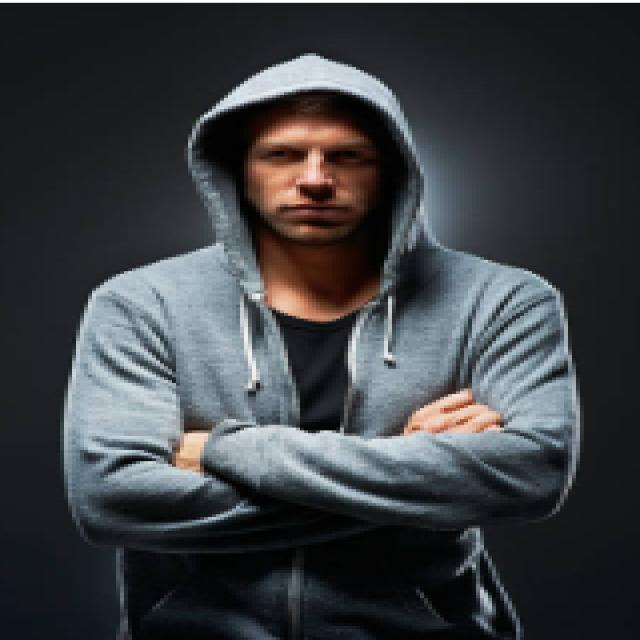4_capucha: (186, 52, 427, 312)
